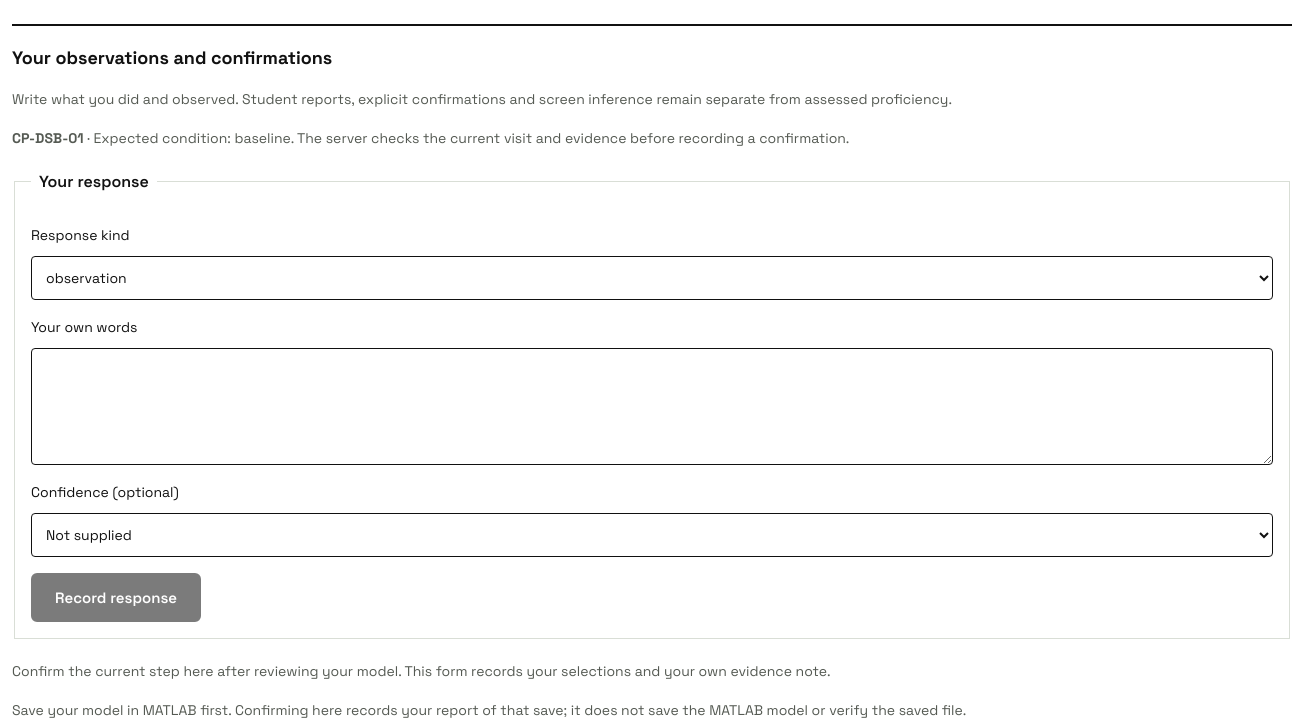
Test: keeps the response draft after HTTP 409 and does not duplicate an in-flight submission
In the text box labelled "Your own words": {"x": 652, "y": 407} top-left (31, 348), bottom-right (1273, 465), type "My observation from this run."
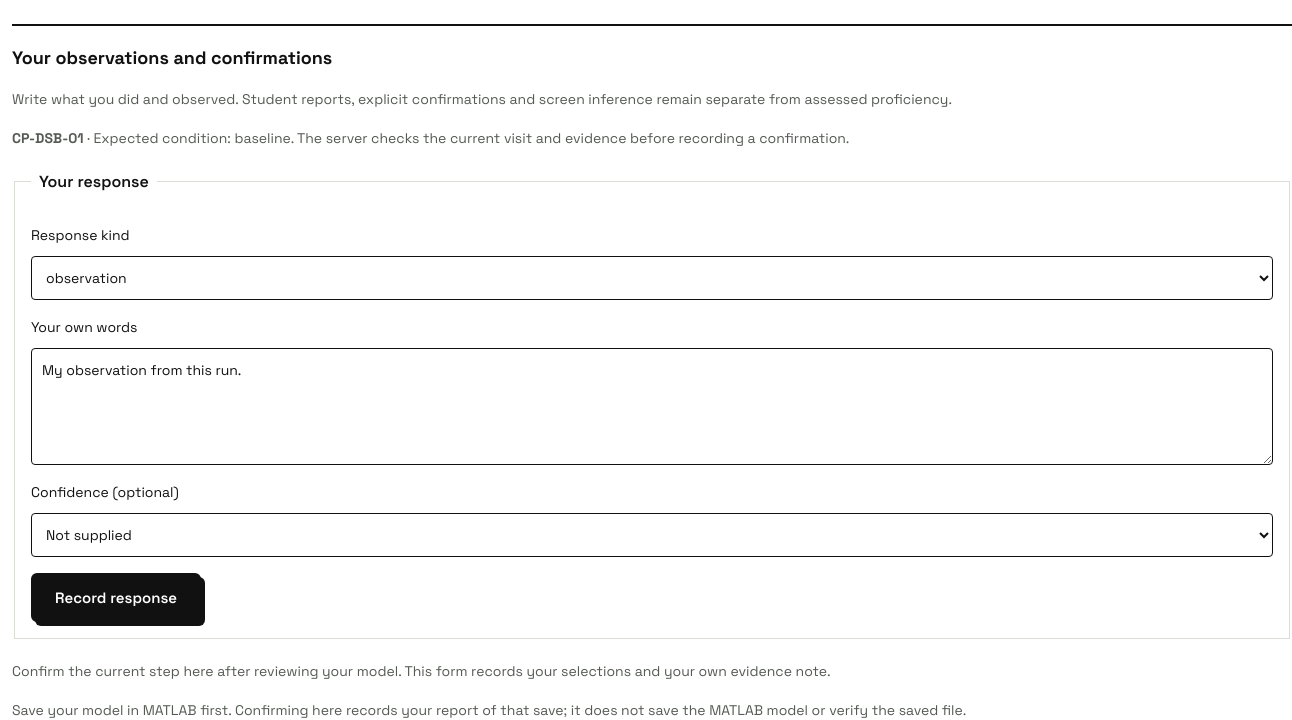
Select "4" in the dropdown labelled "Confidence (optional)": {"x": 652, "y": 535} top-left (31, 513), bottom-right (1273, 557)
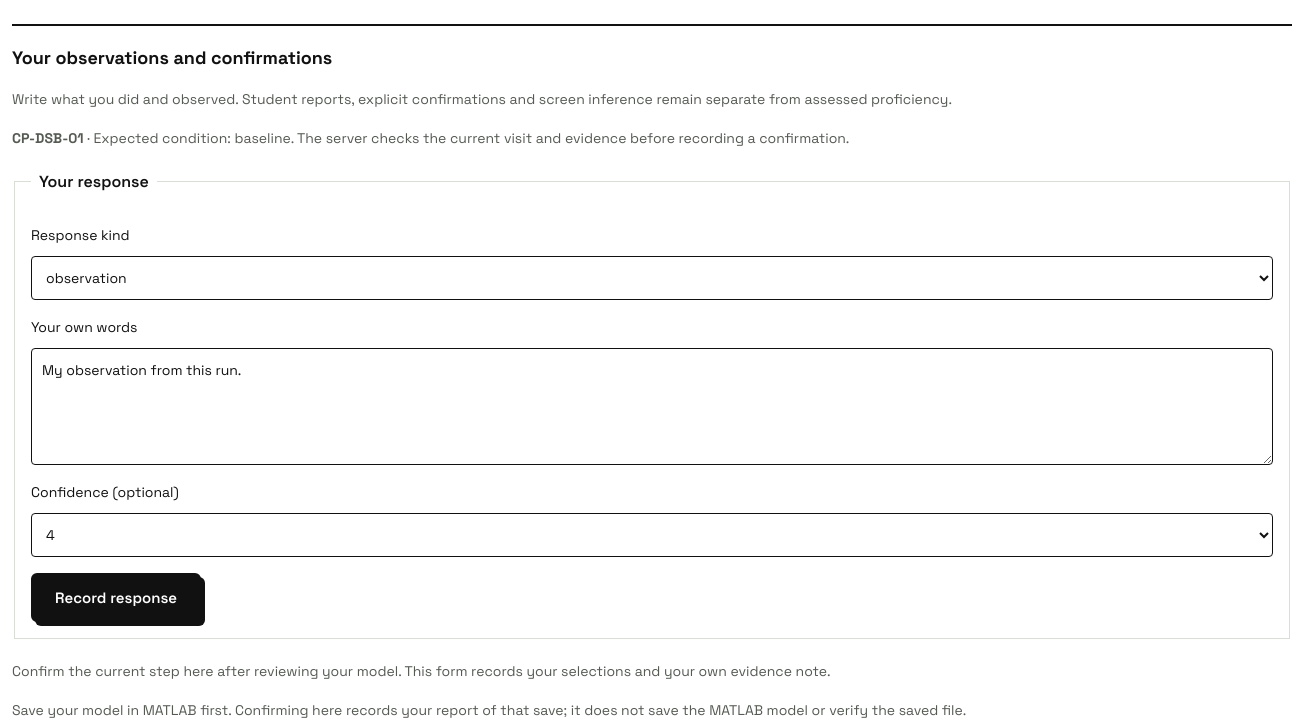
Click the button "Record response": {"x": 116, "y": 598} top-left (31, 573), bottom-right (201, 622)
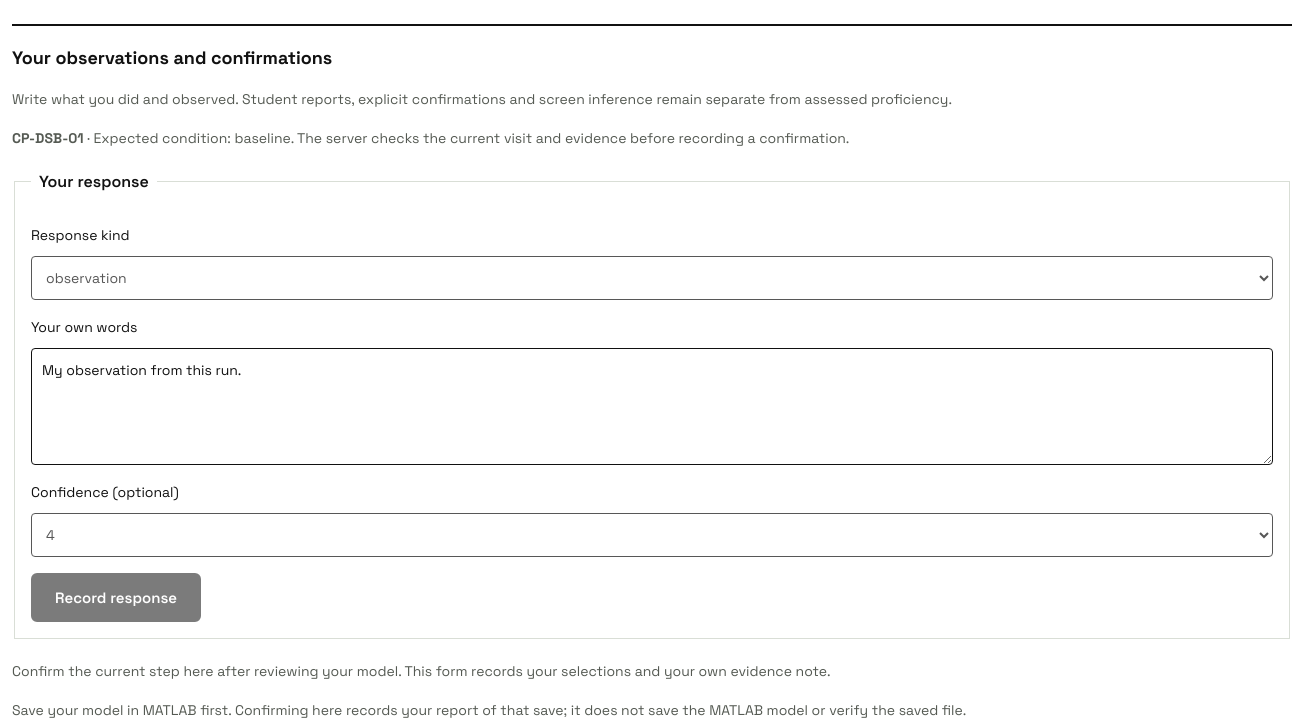
Click the button "Record response": {"x": 116, "y": 598} top-left (31, 573), bottom-right (201, 622)
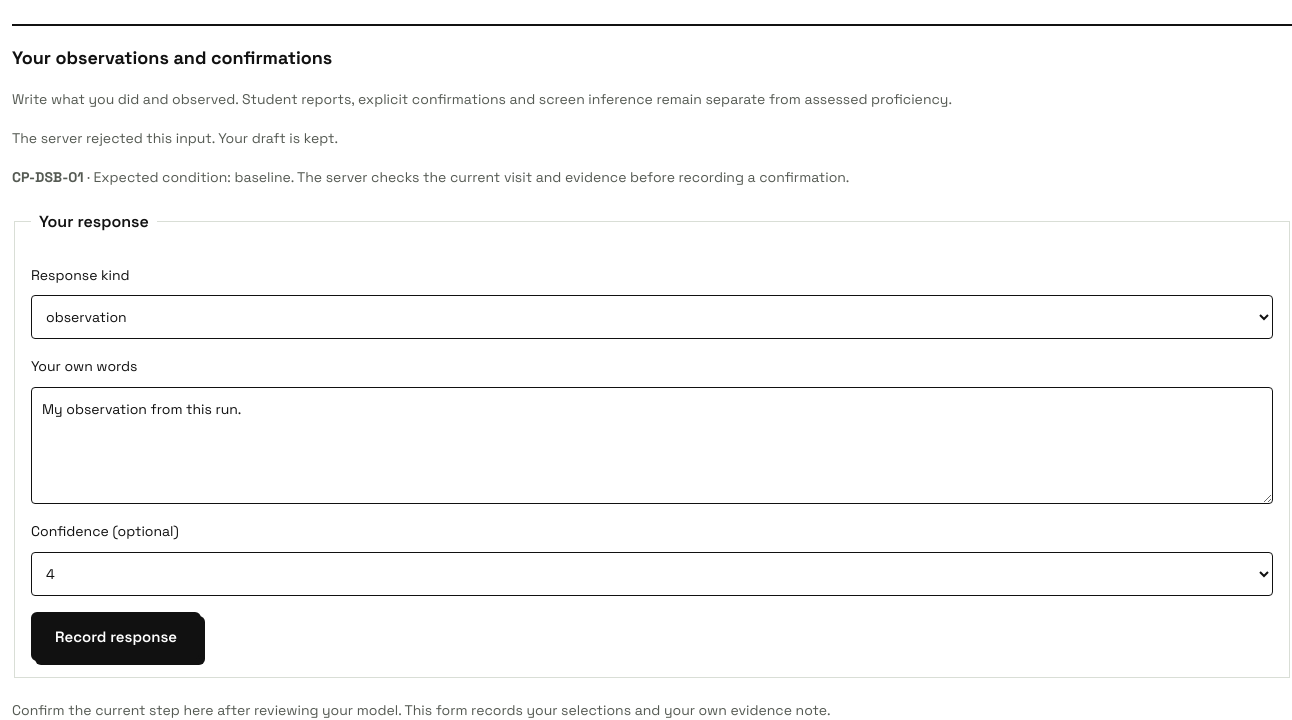
Now the message shows "draft is kept", box top-left (12, 129), bottom-right (338, 147)
